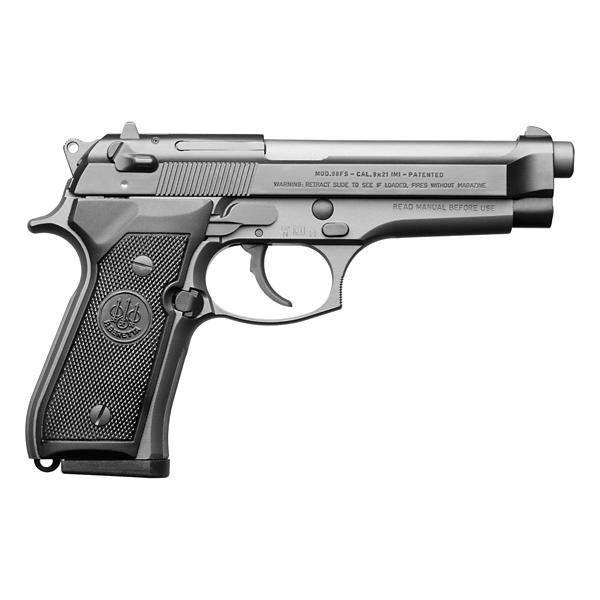gun: (25, 118, 578, 476)
